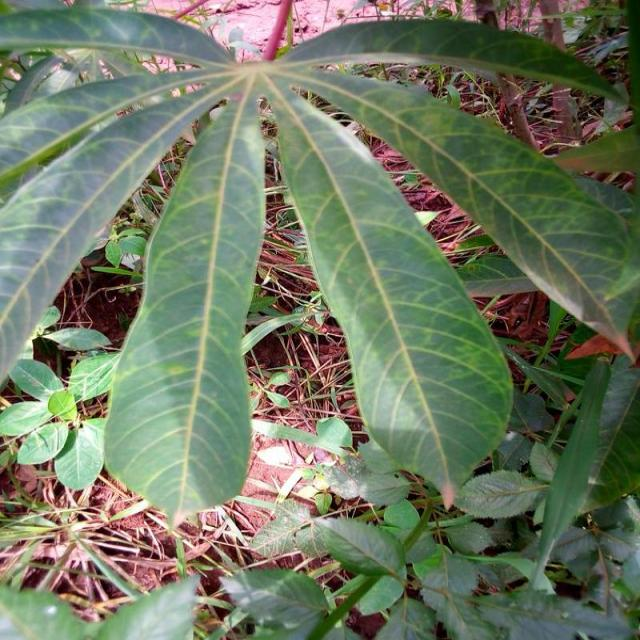cassava leaf: (1, 2, 638, 529), (268, 72, 516, 506), (102, 89, 268, 530)
